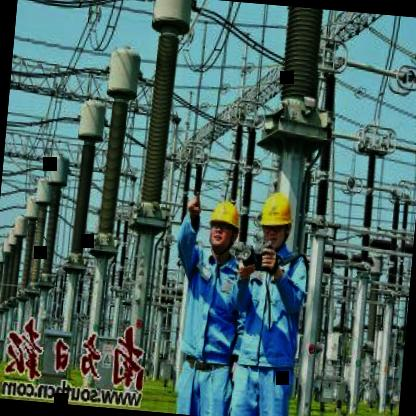helmet: (254, 182, 298, 254), (204, 196, 246, 258)
